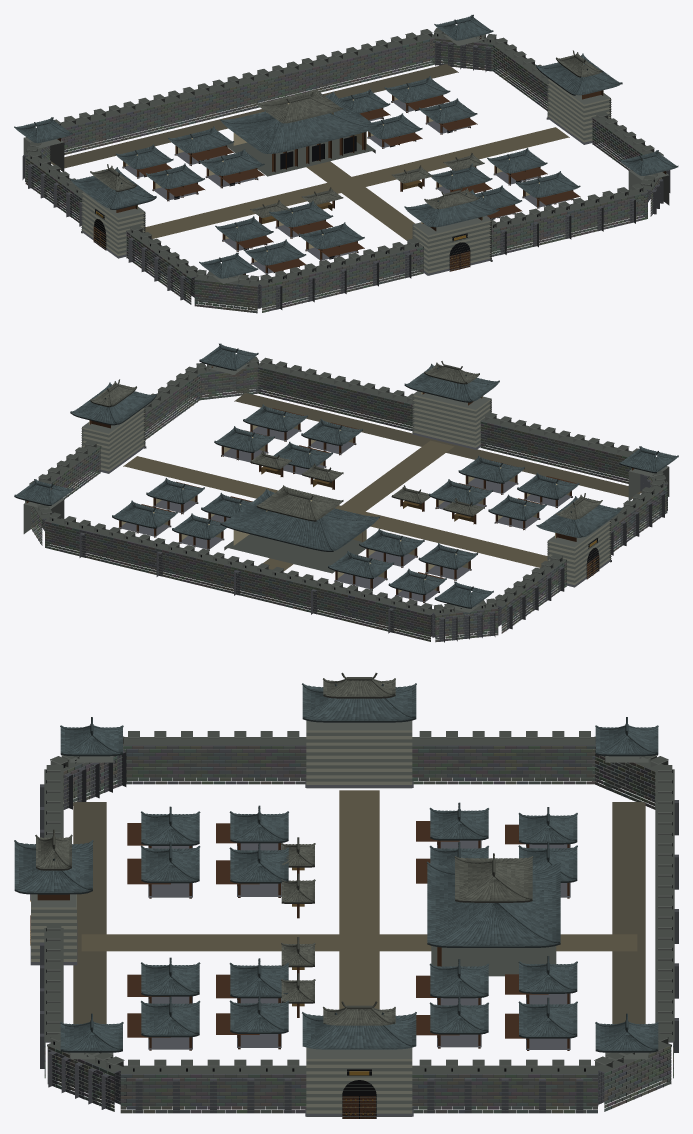
The model's file is TRB8-CITY-NORTH-001-v8.glb.
The picture shows the model from 3 angles, top to bottom: view 1: azimuth 30°, elevation 25°; view 2: azimuth 150°, elevation 25°; view 3: azimuth 270°, elevation 25°; orthographic projection. The views are drawn at different scales.
Parts seen in each view (by area): view 1: TRB8-CITY-NORTH-001-v8; view 2: TRB8-CITY-NORTH-001-v8; view 3: TRB8-CITY-NORTH-001-v8.
Part boxes in pixels (x1,y1,x2,y2): TRB8-CITY-NORTH-001-v8: (14, 14, 678, 313); TRB8-CITY-NORTH-001-v8: (14, 343, 678, 642); TRB8-CITY-NORTH-001-v8: (14, 672, 678, 1118).
Bounding box in the file's own units: 30.87 × 4.34 × 23.94.
